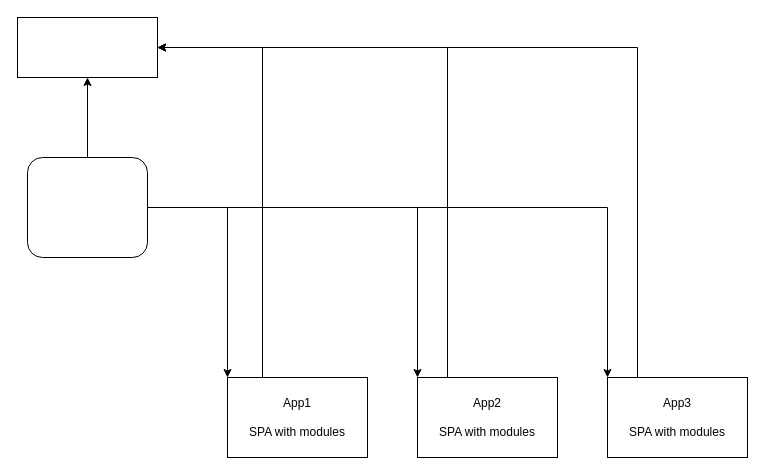
This 765x475 diagram has some shape labels left out. The centre of each missing label's shape, as x and y in pixels:
App Service: (x=87, y=47)
CommonUI Menu with app Menu with feature UI Config: (x=87, y=207)
